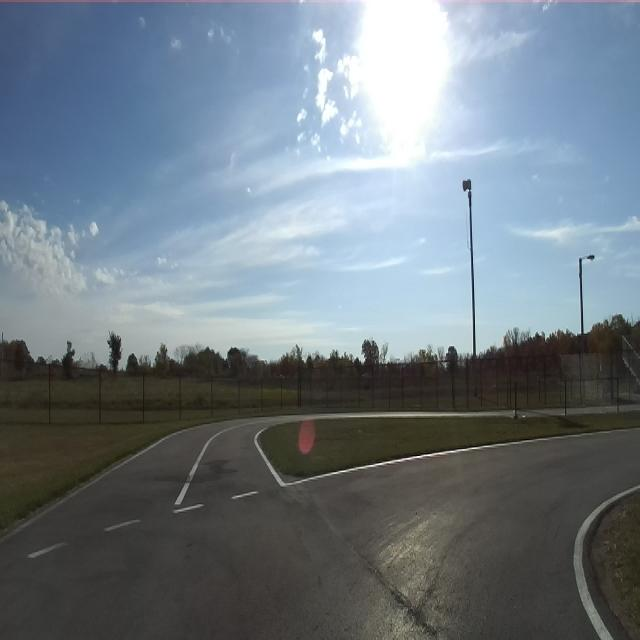white-line: (254, 428, 595, 487), (574, 484, 640, 639), (176, 430, 224, 504), (28, 541, 66, 558), (104, 519, 141, 532), (174, 503, 204, 513), (232, 491, 258, 499)
